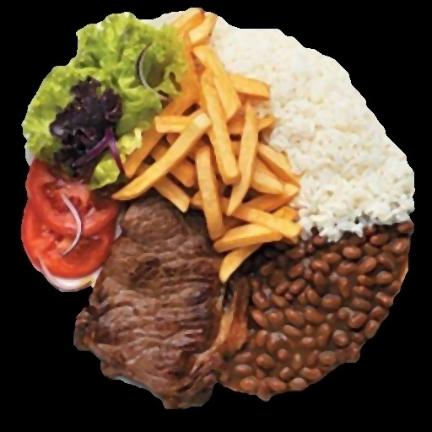beans: (222, 223, 413, 399)
meat: (75, 193, 248, 408)
potato: (114, 9, 302, 283)
rice: (211, 18, 415, 240)
salad: (22, 13, 186, 188)
tomato: (23, 160, 119, 278)
